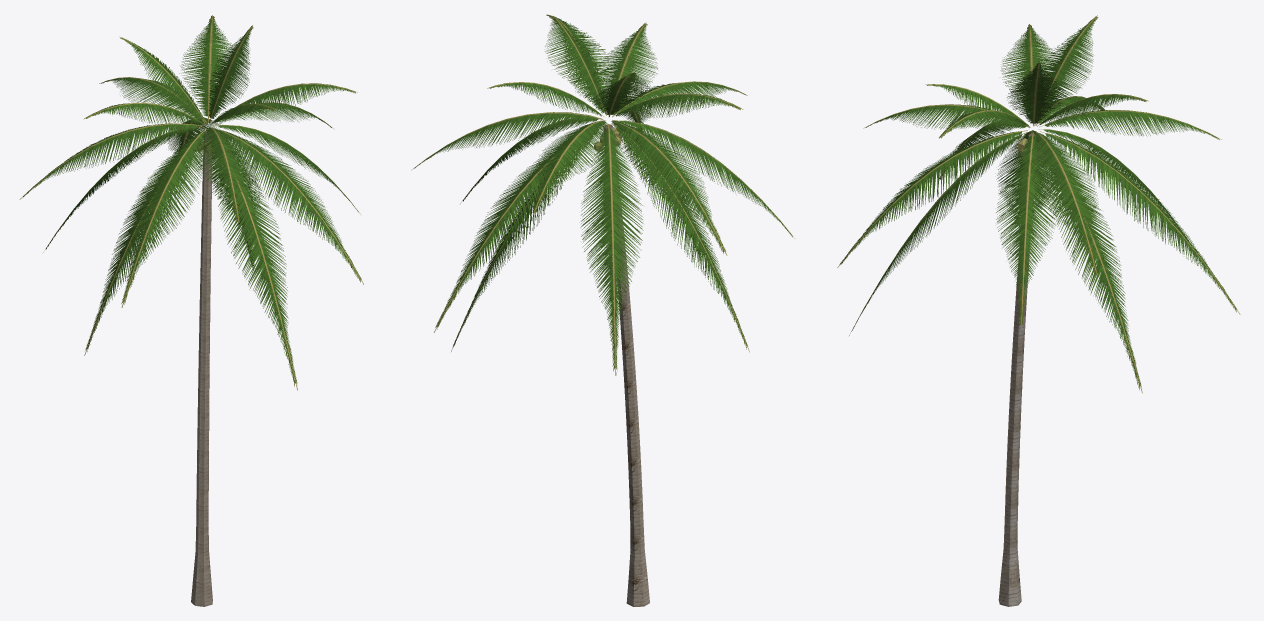
File: palm_a.glb
3 views of the same model, side by side, from view 1: azimuth 30°, elevation 25°; view 2: azimuth 150°, elevation 25°; view 3: azimuth 270°, elevation 25° (orthographic). The views are drawn at different scales.
Parts seen in each view (by area): view 1: palm_a; view 2: palm_a; view 3: palm_a.
Part boxes in pixels (bbox=[...]): palm_a: bbox=[19, 15, 363, 606]; palm_a: bbox=[411, 14, 794, 606]; palm_a: bbox=[837, 15, 1240, 606].
Bounding box in the file's own units: 8.14 × 13.29 × 8.85.
Materials: 3 (2 with a texture image).
